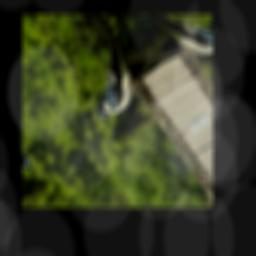Swallow: (61, 28, 159, 124)
